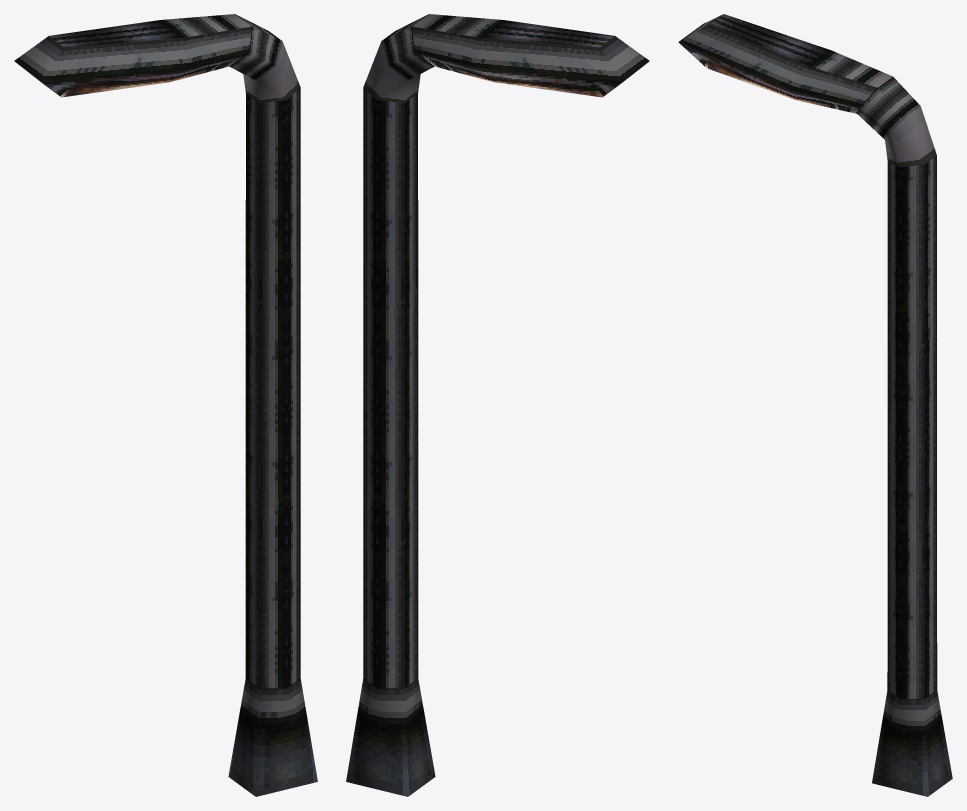
Rendered from prop_street_light.glb.
3 views of the same model, side by side, from view 1: azimuth 30°, elevation 25°; view 2: azimuth 150°, elevation 25°; view 3: azimuth 330°, elevation 25° (orthographic). The views are drawn at different scales.
Visible parts, largest first — view 1: Street_Light_Pole; view 2: Street_Light_Pole; view 3: Street_Light_Pole.
Boxes of the visible parts, x1,y1,x2,y2 form: Street_Light_Pole: (14, 14, 317, 796); Street_Light_Pole: (346, 14, 649, 796); Street_Light_Pole: (678, 14, 952, 796).
Bounding box in the file's own units: 1.46 × 4 × 0.4528.
Materials: 2 (2 with a texture image).
